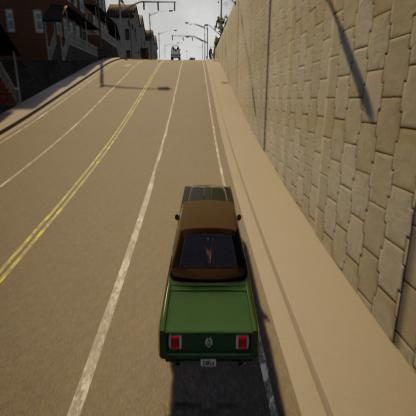Cars: (151, 170, 266, 378), (169, 42, 183, 63)
